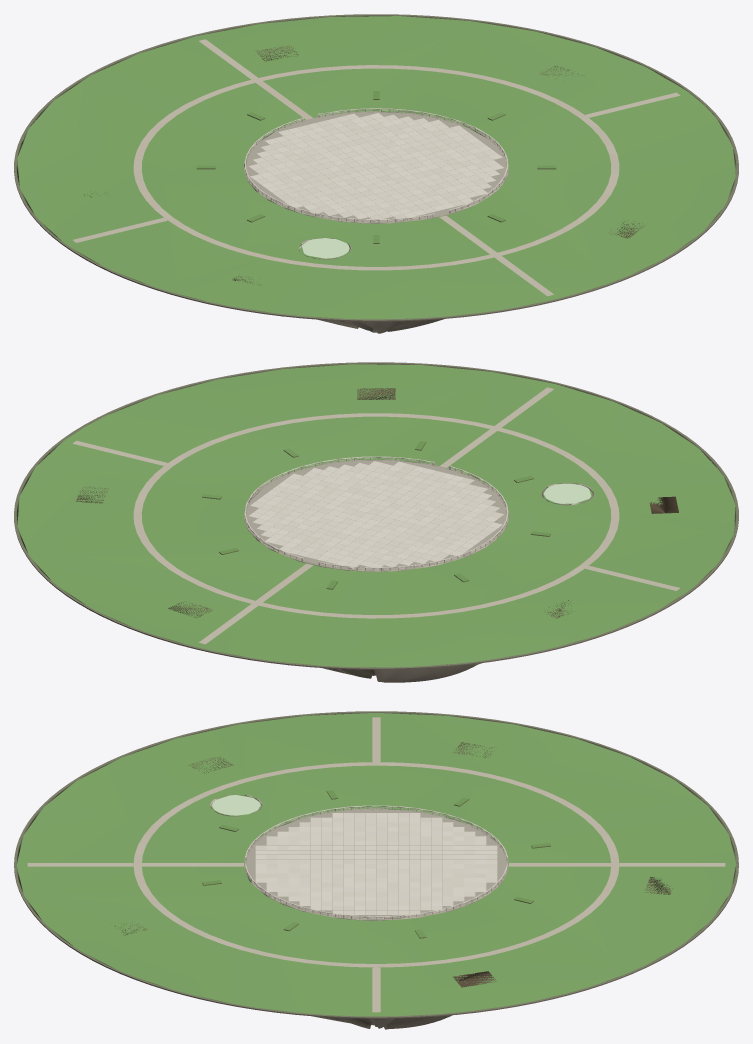
The model's file is lib_dao_vua.lod.glb.
The picture shows the model from 3 angles, top to bottom: view 1: azimuth 30°, elevation 25°; view 2: azimuth 150°, elevation 25°; view 3: azimuth 270°, elevation 25°; orthographic projection.
Visible parts, largest first — view 1: dao_vua_san_vuon_ho, dao_vua_day_da, dao_vua_lan_can; view 2: dao_vua_san_vuon_ho, dao_vua_day_da, dao_vua_lan_can; view 3: dao_vua_san_vuon_ho, dao_vua_day_da, dao_vua_lan_can.
Part boxes in pixels (left/top/right/bottom): dao_vua_san_vuon_ho: left=17, top=16, right=735, bottom=319; dao_vua_day_da: left=14, top=14, right=738, bottom=333; dao_vua_lan_can: left=244, top=108, right=508, bottom=222; dao_vua_san_vuon_ho: left=17, top=364, right=735, bottom=667; dao_vua_day_da: left=14, top=362, right=738, bottom=682; dao_vua_lan_can: left=244, top=456, right=508, bottom=570; dao_vua_san_vuon_ho: left=16, top=713, right=736, bottom=1016; dao_vua_day_da: left=14, top=711, right=738, bottom=1029; dao_vua_lan_can: left=245, top=805, right=507, bottom=919.
Bounding box in the file's own units: 264 × 64.81 × 264.
